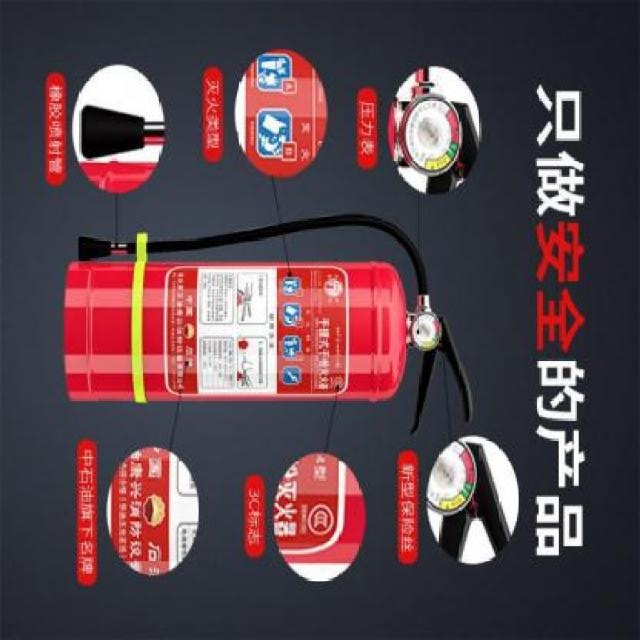fire extinguisher: (63, 211, 472, 440)
